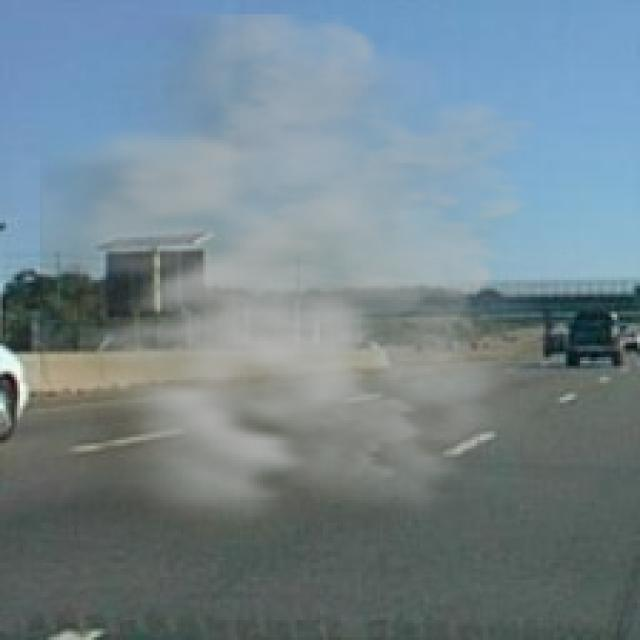Smoke: (39, 14, 592, 557)
